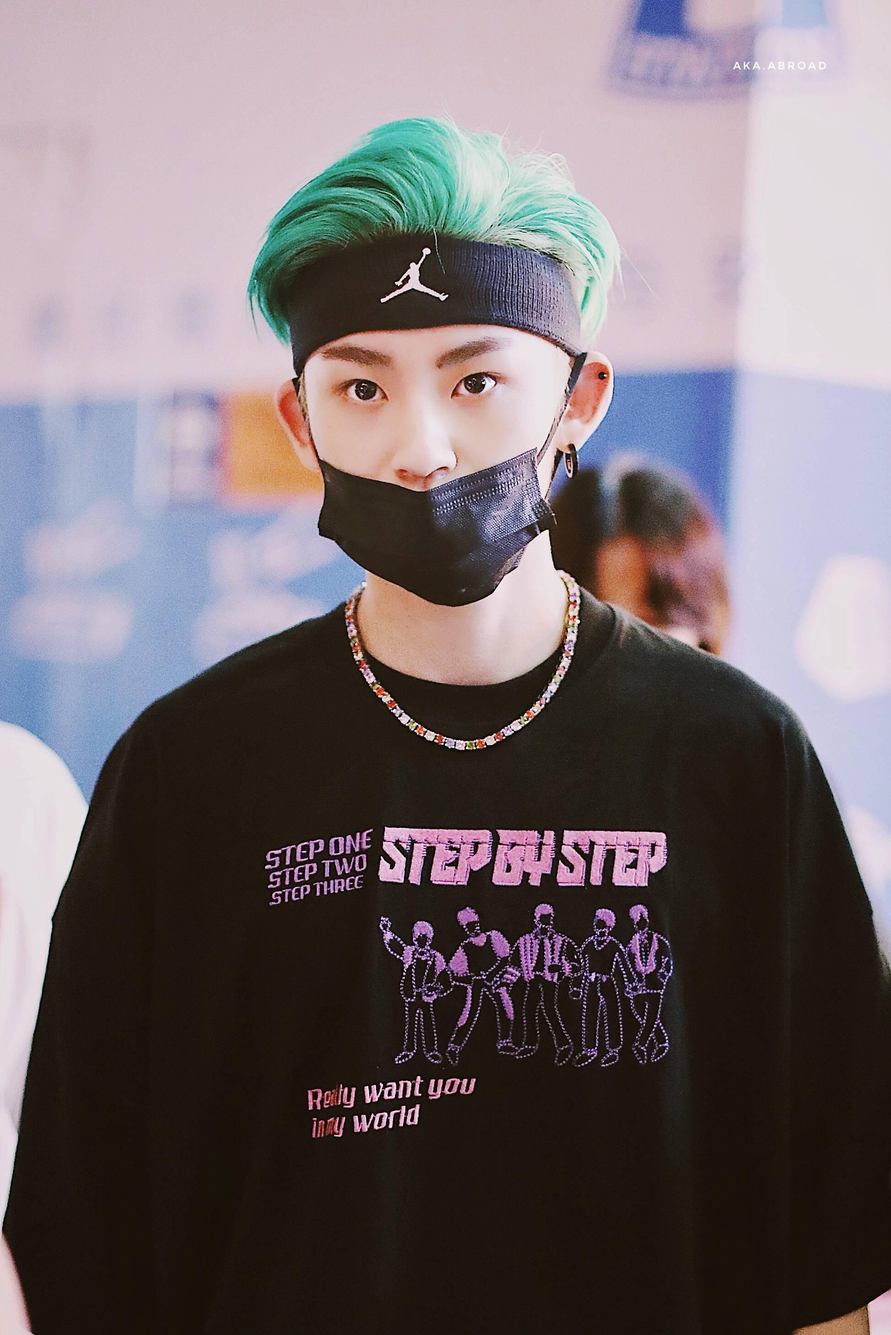WRONG: (297, 323, 557, 595)
